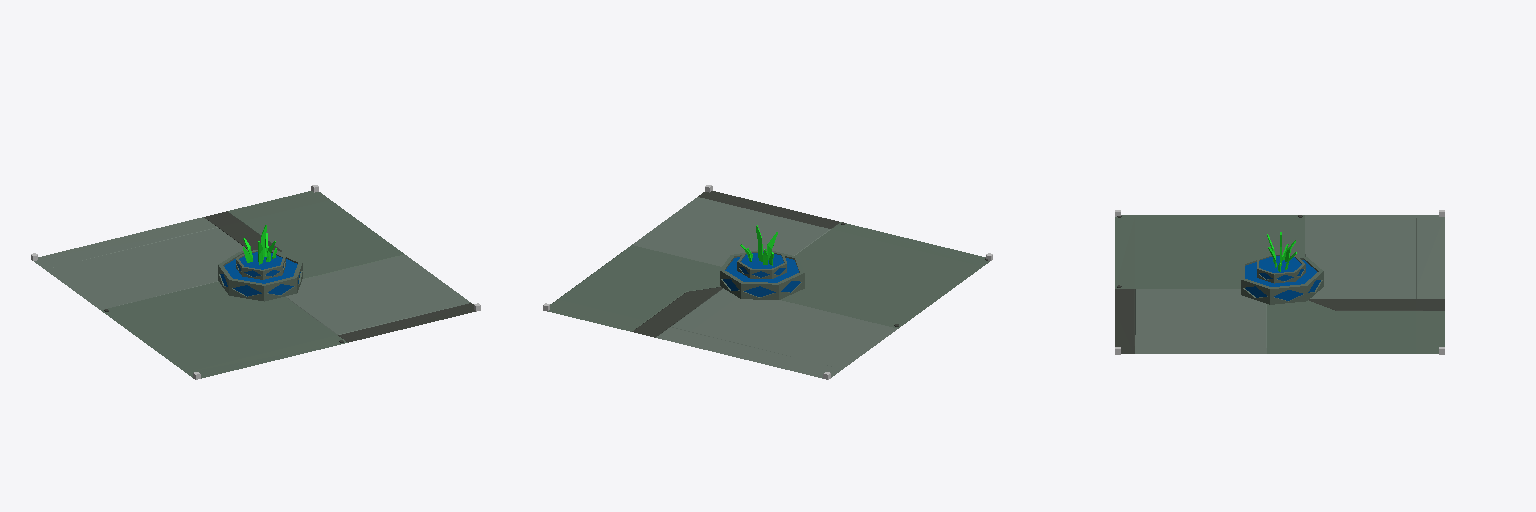
The picture shows the model from 3 angles: view 1: azimuth 30°, elevation 25°; view 2: azimuth 150°, elevation 25°; view 3: azimuth 270°, elevation 25°; orthographic projection.
Parts seen in each view (by area): view 1: Scifi_Panel_04_Plaza014_group4.031, Cylinder.003_Cylinder.005, Cylinder.004_Cylinder.006, bush08; view 2: Scifi_Panel_04_Plaza014_group4.031, Cylinder.003_Cylinder.005, Cylinder.004_Cylinder.006; view 3: Scifi_Panel_04_Plaza014_group4.031, Cylinder.003_Cylinder.005, Cylinder.004_Cylinder.006.
Boxes of the visible parts, box(x1,y1,x2,y2) form: Scifi_Panel_04_Plaza014_group4.031: box(34, 191, 475, 378); Cylinder.003_Cylinder.005: box(218, 250, 302, 301); Cylinder.004_Cylinder.006: box(236, 250, 285, 279); bush08: box(243, 225, 276, 264); Scifi_Panel_04_Plaza014_group4.031: box(548, 191, 989, 378); Cylinder.003_Cylinder.005: box(720, 249, 804, 299); Cylinder.004_Cylinder.006: box(737, 249, 786, 278); Scifi_Panel_04_Plaza014_group4.031: box(1115, 215, 1444, 353); Cylinder.003_Cylinder.005: box(1241, 253, 1323, 304); Cylinder.004_Cylinder.006: box(1257, 253, 1305, 283).
Size of the model in its own units: 10 by 1.93 by 10.